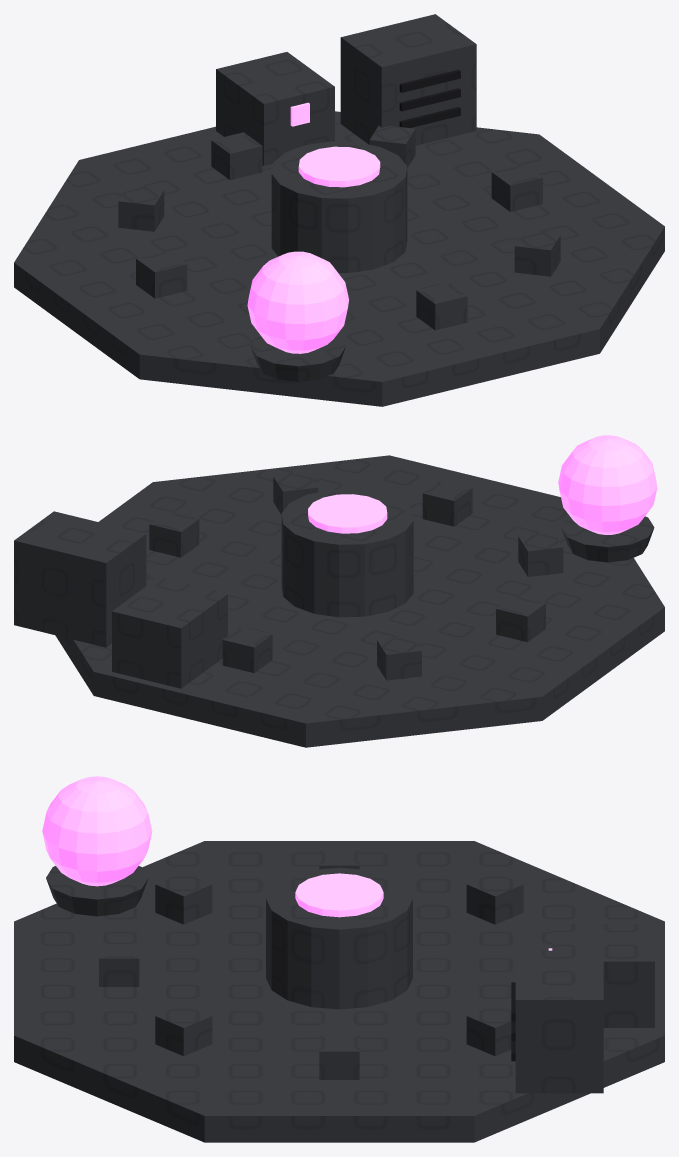
The model's file is Accelerateur_Particules.glb.
3 renders of one model, top to bottom at view 1: azimuth 30°, elevation 25°; view 2: azimuth 150°, elevation 25°; view 3: azimuth 270°, elevation 25°, orthographic. The views are drawn at different scales.
Visible parts, largest first — view 1: Accelerateur_Particules; view 2: Accelerateur_Particules; view 3: Accelerateur_Particules.
Part boxes in pixels (x1=…): Accelerateur_Particules: x1=14, y1=14, x2=664, y2=406; Accelerateur_Particules: x1=14, y1=435, x2=664, y2=747; Accelerateur_Particules: x1=14, y1=776, x2=664, y2=1142.
Bounding box in the file's own units: 8.87 × 2.15 × 8.87.
Materials: 3 (1 with a texture image).
